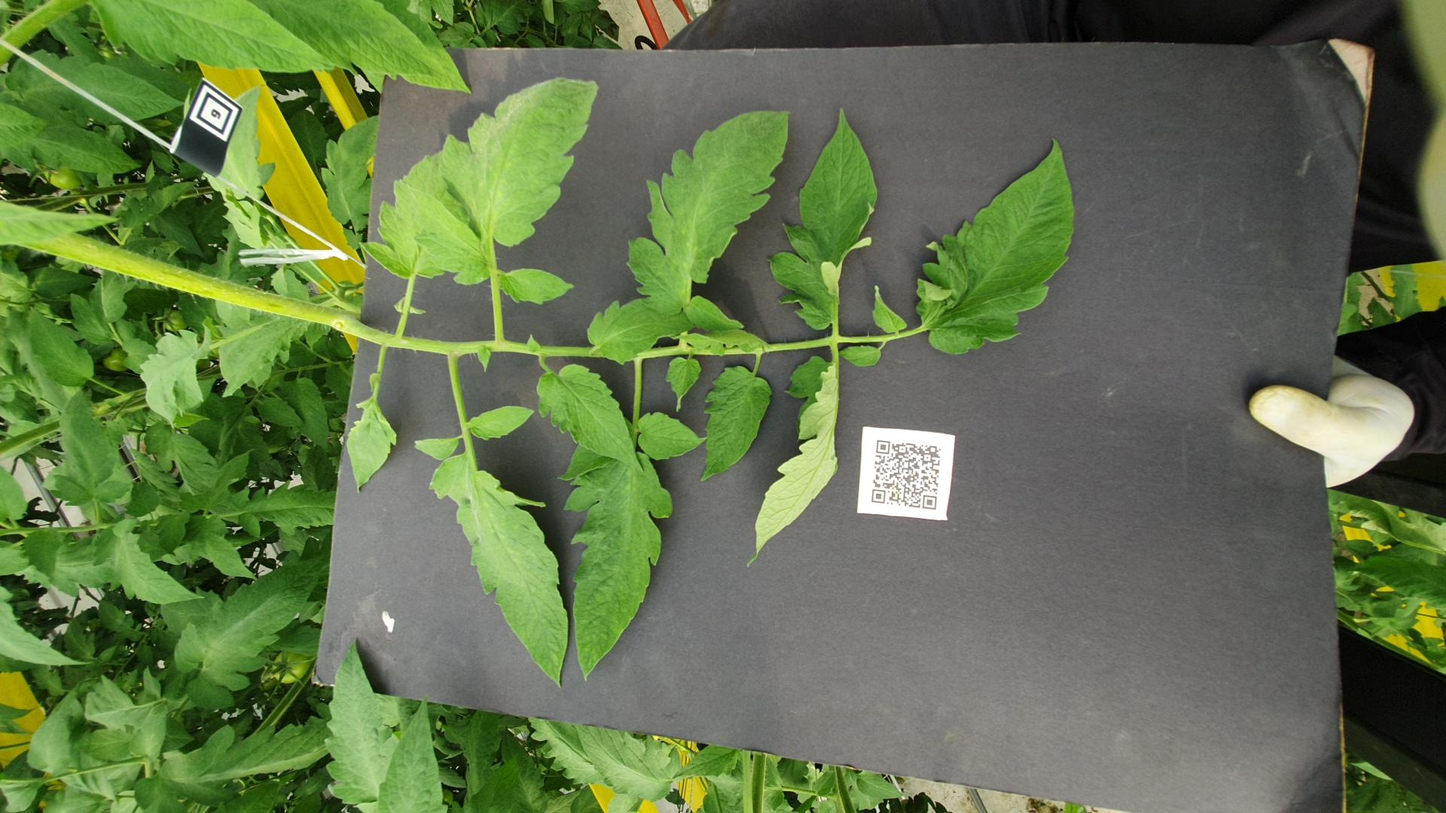Healthy: (903, 229, 1317, 337), (859, 352, 1250, 445), (815, 515, 1202, 605), (221, 241, 638, 320), (234, 316, 643, 378), (858, 432, 1255, 494), (186, 98, 461, 184), (435, 420, 814, 472), (0, 76, 173, 185), (1317, 51, 1446, 188), (1310, 138, 1446, 250), (1224, 3, 1360, 104), (15, 182, 313, 224), (608, 302, 799, 360), (545, 27, 753, 73), (1137, 0, 1248, 80), (587, 393, 795, 434), (0, 211, 208, 252), (20, 322, 159, 383), (372, 60, 526, 115), (798, 330, 918, 390), (682, 79, 862, 118), (1039, 180, 1240, 213), (488, 130, 592, 189), (757, 17, 904, 53), (627, 359, 714, 397), (641, 163, 777, 185), (62, 377, 122, 416), (663, 263, 726, 300), (715, 374, 811, 394), (855, 490, 940, 510), (687, 144, 740, 171), (27, 481, 71, 509), (628, 233, 669, 258), (793, 471, 832, 495)
